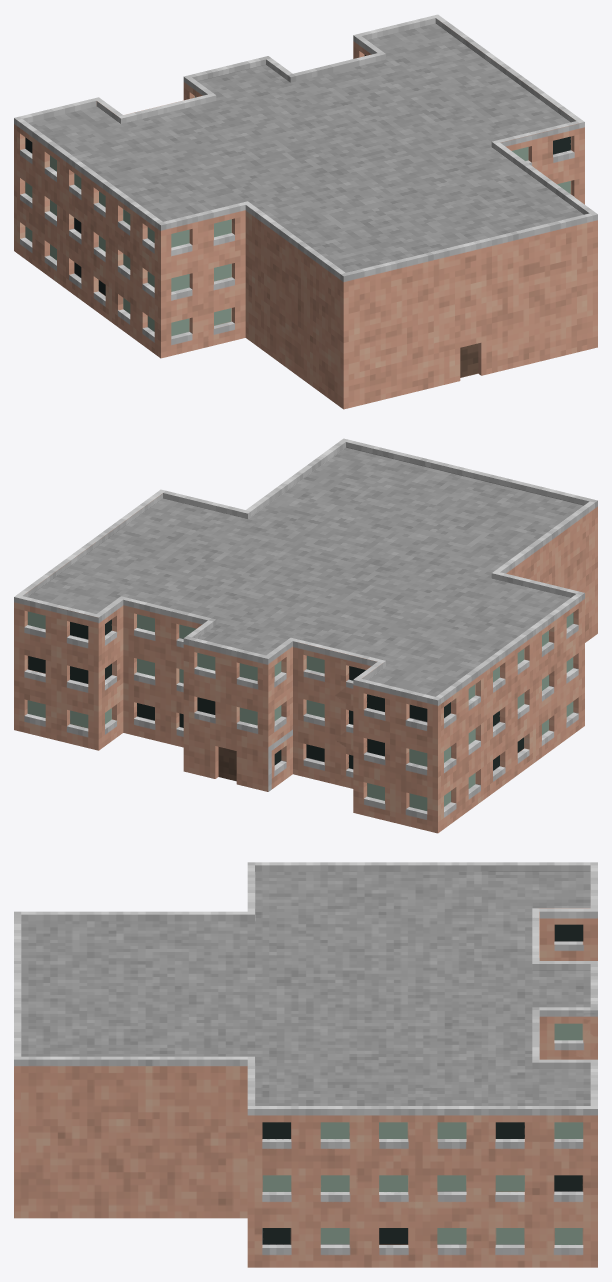
File: auditorium.fbx
3 views of the same model, one above another, from view 1: azimuth 30°, elevation 25°; view 2: azimuth 150°, elevation 25°; view 3: azimuth 270°, elevation 25° (orthographic). The views are drawn at different scales.
Parts seen in each view (by area): view 1: Auditorium; view 2: Auditorium; view 3: Auditorium.
Part boxes in pixels (bbox=[...]): Auditorium: bbox=[14, 14, 597, 409]; Auditorium: bbox=[14, 438, 597, 833]; Auditorium: bbox=[14, 862, 597, 1267].
Size of the model in its own units: 500 by 150 by 500.
Materials: 1 (1 with a texture image).
